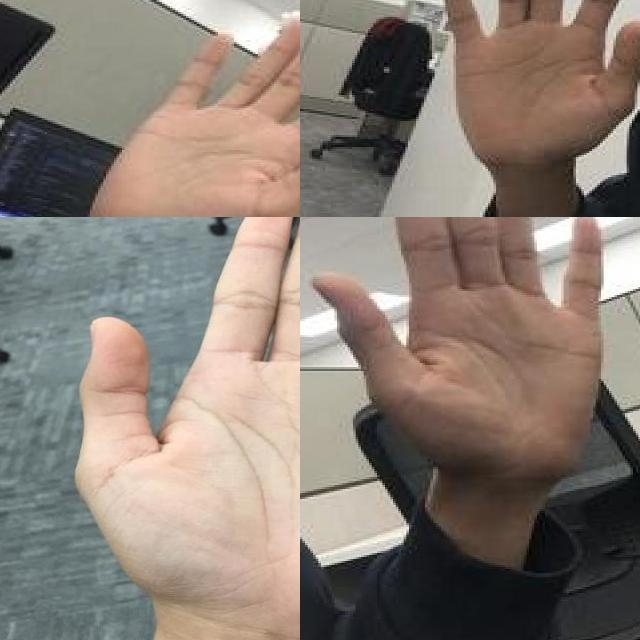no-gloves: (77, 217, 300, 640), (302, 217, 614, 477), (84, 4, 300, 217), (440, 0, 640, 169)
